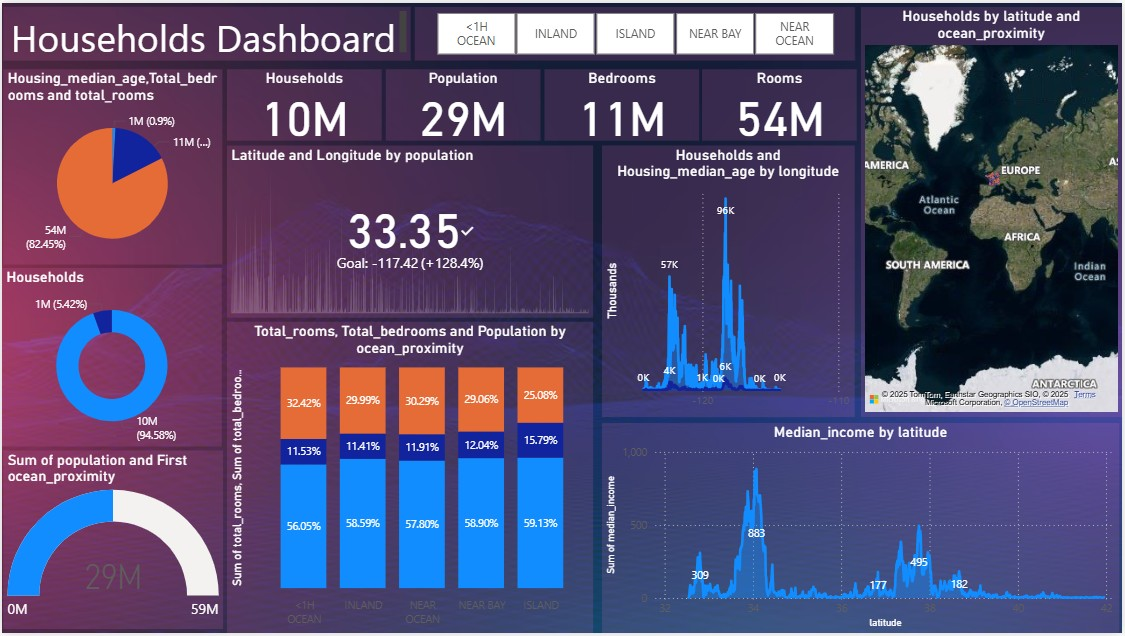

Layout of this report page (visuals, bound fields, positions):
{"tool":"powerbi","page":{"name":"Page 1","canvas":[1280,720],"ordinal":0},"visuals":[{"type":"donutChart","title":"Households","fields":{"Y":["Sum(housing.households)","Sum(housing.housing_median_age)"]},"box":[0,302.9,251.4,204.3],"z":0},{"type":"stackedAreaChart","title":"Median_income by latitude","fields":{"Category":["housing.latitude"],"Y":["Sum(housing.median_income)"]},"box":[685.7,480,591.4,240],"z":1000},{"type":"slicer","fields":{"Values":["housing.ocean_proximity"]},"box":[471.4,4.3,502.9,61.4],"z":2000},{"type":"gauge","fields":{"Y":["Sum(housing.population)"]},"box":[1.4,511.4,251.4,204.3],"z":3000},{"type":"filledMap","title":"Households by latitude and ocean_proximity","fields":{"Series":["housing.ocean_proximity"],"Category":["housing.latitude","housing.longitude"]},"box":[981.4,4.3,298.6,468.6],"z":4000},{"type":"pieChart","title":"Housing_median_age,Total_bedrooms and total_rooms","fields":{"Y":["Sum(housing.housing_median_age)","Sum(housing.total_bedrooms)","Sum(housing.total_rooms)"]},"box":[1.4,75.7,250,222.9],"z":5000},{"type":"card","title":"Households","fields":{"Values":["Sum(housing.households)"]},"box":[257.1,75.7,177.1,81.4],"z":6000},{"type":"card","title":"Population","fields":{"Values":["Sum(housing.population)"]},"box":[438.6,75.7,177.1,81.4],"z":7000},{"type":"card","title":"Bedrooms","fields":{"Values":["Sum(housing.total_bedrooms)"]},"box":[620,75.7,177.1,81.4],"z":8000},{"type":"card","title":"Rooms","fields":{"Values":["Sum(housing.total_rooms)"]},"box":[800,75.7,177.1,81.4],"z":9000},{"type":"kpi","title":"Latitude and Longitude by population","fields":{"Indicator":["Sum(housing.latitude)"],"Goal":["Sum(housing.longitude)"],"TrendLine":["housing.population"]},"box":[257.1,162.9,418.6,197.1],"z":10000},{"type":"areaChart","title":"Households and Housing_median_age by longitude","fields":{"Y":["Sum(housing.households)","Sum(housing.housing_median_age)"],"Category":["housing.longitude"]},"box":[685.7,162.9,288.6,310],"z":11000},{"type":"hundredPercentStackedColumnChart","title":"Total_rooms, Total_bedrooms and Population by ocean_proximity","fields":{"Y":["Sum(housing.total_rooms)","Sum(housing.total_bedrooms)","Sum(housing.population)"],"Category":["housing.ocean_proximity"]},"box":[257.1,364.3,418.6,355.7],"z":12000},{"type":"textbox","box":[1.4,4.3,465.7,61.4],"z":13000}]}

Visuals, with their boxes in screenshot pixels (x1, y1, x2, y2), scaled from the page's 1280x720 canvas onto the 1125x636 screenshot:
"Households" donutChart: (left=0, top=268, right=221, bottom=448)
"Median_income by latitude" stackedAreaChart: (left=603, top=424, right=1122, bottom=635)
slicer - housing.ocean_proximity: (left=414, top=4, right=856, bottom=58)
gauge - Sum(housing.population): (left=1, top=452, right=222, bottom=632)
"Households by latitude and ocean_proximity" filledMap: (left=863, top=4, right=1124, bottom=418)
"Housing_median_age,Total_bedrooms and total_rooms" pieChart: (left=1, top=67, right=221, bottom=264)
"Households" card: (left=226, top=67, right=382, bottom=139)
"Population" card: (left=385, top=67, right=541, bottom=139)
"Bedrooms" card: (left=545, top=67, right=701, bottom=139)
"Rooms" card: (left=703, top=67, right=859, bottom=139)
"Latitude and Longitude by population" kpi: (left=226, top=144, right=594, bottom=318)
"Households and Housing_median_age by longitude" areaChart: (left=603, top=144, right=856, bottom=418)
"Total_rooms, Total_bedrooms and Population by ocean_proximity" hundredPercentStackedColumnChart: (left=226, top=322, right=594, bottom=635)
textbox: (left=1, top=4, right=411, bottom=58)
